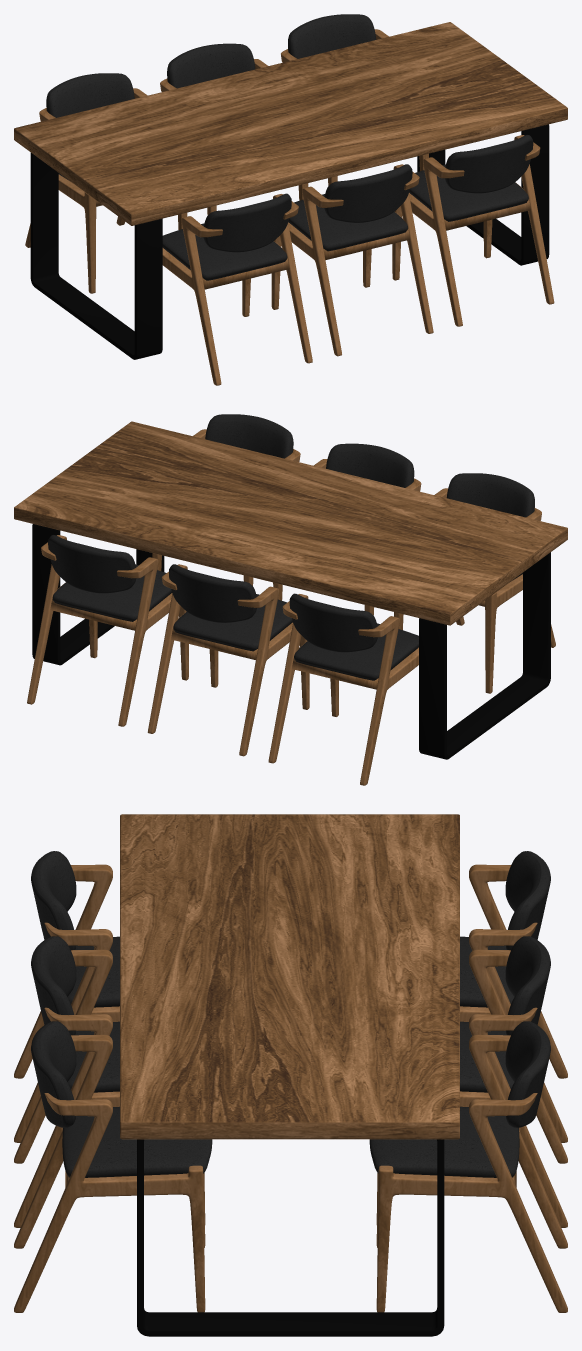
The model's file is diningTableSet.glb.
3 views of the same model, one above another, from view 1: azimuth 30°, elevation 25°; view 2: azimuth 150°, elevation 25°; view 3: azimuth 270°, elevation 25° (orthographic). The views are drawn at different scales.
Parts seen in each view (by area): view 1: Table, Chair.004, Chair.003, Chair, Chair.002, Chair.001, Chair.005; view 2: Table, Chair.001, Chair.005, Chair.002, Chair, Chair.003, Chair.004; view 3: Table, Chair.005, Chair.003, Chair.001, Chair.004, Chair.002, Chair.
Boxes of the visible parts, <box> form: Table: <box>14,22,567,359</box>; Chair.004: <box>271,164,433,356</box>; Chair.003: <box>392,135,554,326</box>; Chair: <box>162,193,312,385</box>; Chair.002: <box>25,73,187,293</box>; Chair.001: <box>160,43,308,215</box>; Chair.005: <box>281,14,428,185</box>; Table: <box>14,421,567,759</box>; Chair.001: <box>147,564,309,756</box>; Chair.005: <box>27,535,188,726</box>; Chair.002: <box>268,593,418,785</box>; Chair: <box>394,473,555,693</box>; Chair.003: <box>152,414,300,585</box>; Chair.004: <box>273,443,421,615</box>; Table: <box>120,814,459,1336</box>; Chair.005: <box>369,1021,567,1312</box>; Chair.003: <box>14,1021,212,1312</box>; Chair.001: <box>376,936,567,1227</box>; Chair.004: <box>14,936,205,1227</box>; Chair.002: <box>460,851,567,1142</box>; Chair: <box>14,851,119,1142</box>.
Bounding box in the file's own units: 3.01 × 1.08 × 2.29.
2 materials, 2 textured.
